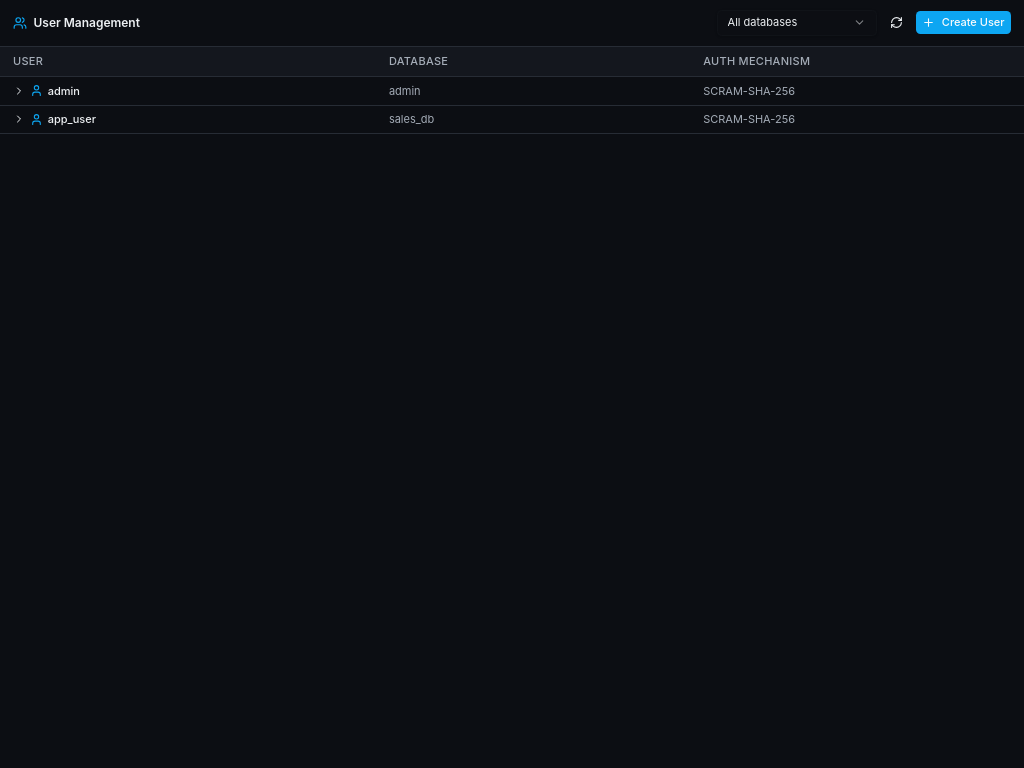
Test case: UserManagementView (user & role management) › rejects saving when a granted role row has no role selected
Expected: the element with test id "user-row-admin.admin" is shown, [13,84,795,98]
Click the button with test id "create-user-btn" at [963, 23], box [916,11,1011,34]
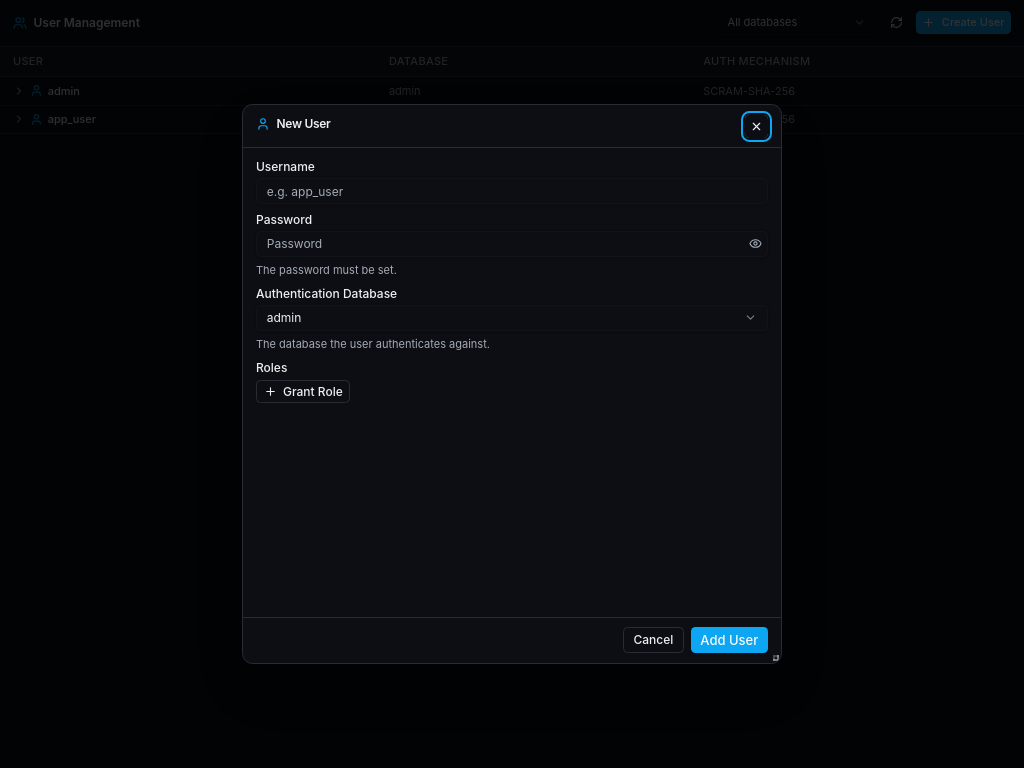
Type "bob" into the field with test id "user-name-input" at [512, 191], box [256,178,768,204]
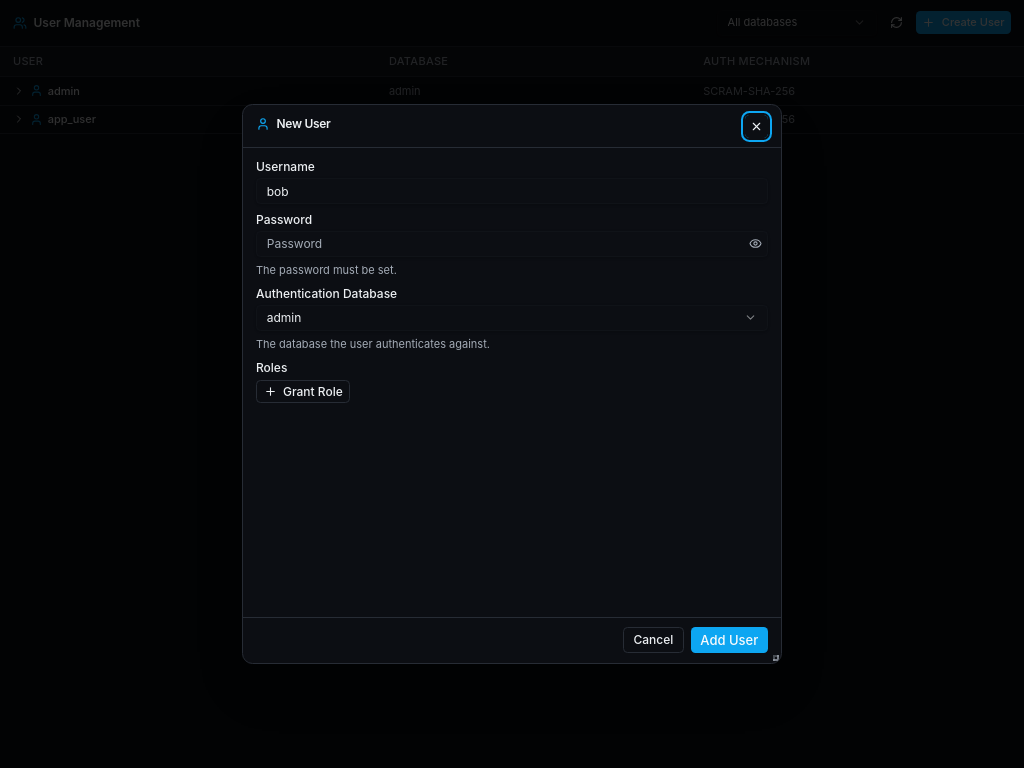
Type "secret" into the password field with test id "user-password-input" at [512, 244], box [256,231,768,257]
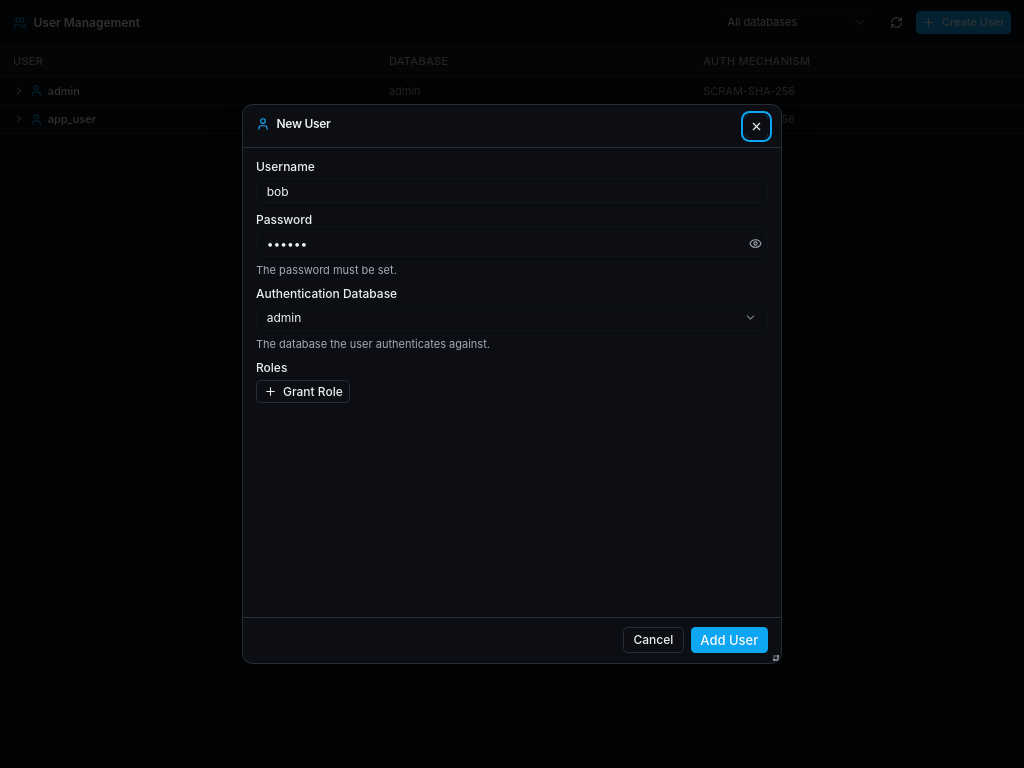
Click the button with test id "add-role-btn" at [303, 392], box [256,380,350,403]
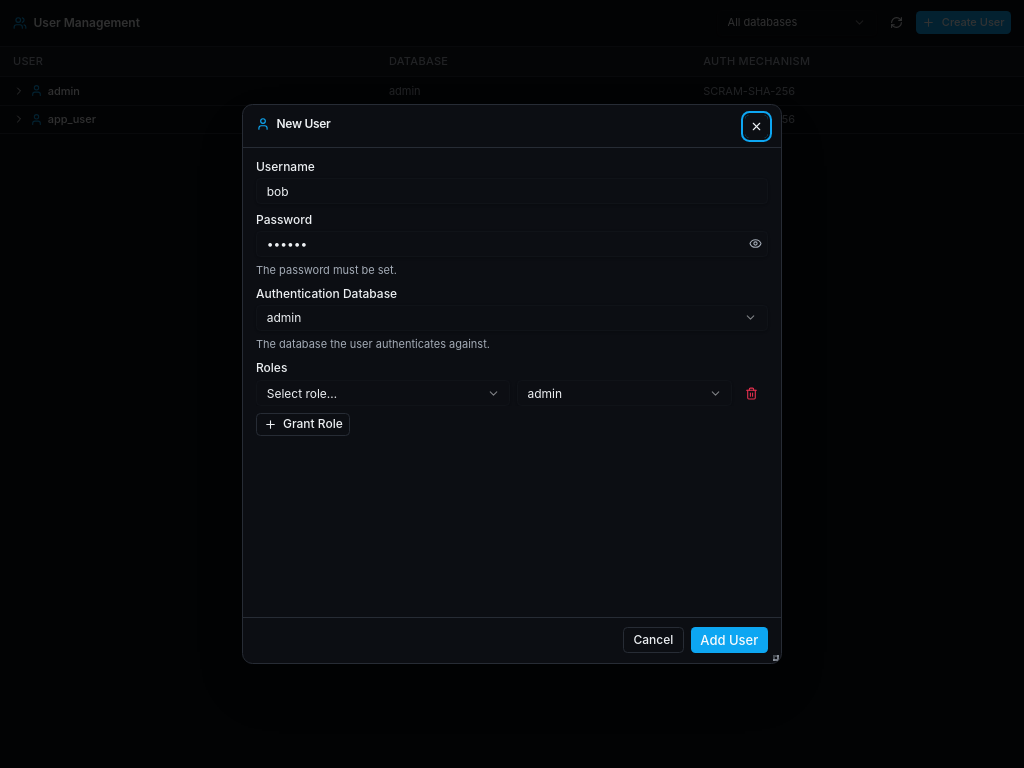
Role left at "Select role…" → save must be blocked with an error.
Click the button with test id "save-user-btn" at [729, 640], box [690,627,768,653]
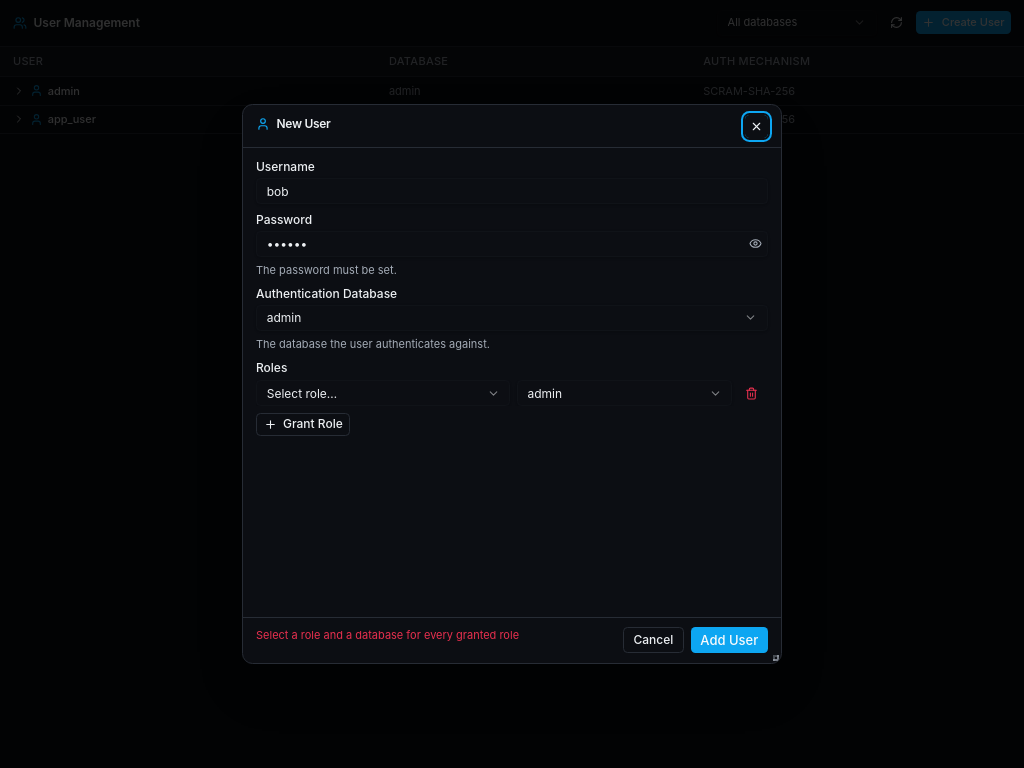
Expected: the dialog with test id "user-editor-modal" is shown, [242,104,782,664]
Expected: the text "Select a role and a database for every granted role" is shown, [256,628,519,642]
